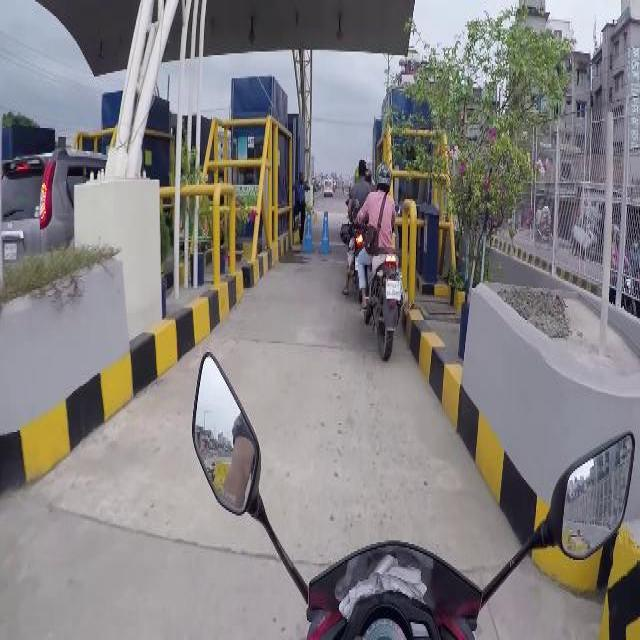bike: (196, 341, 633, 639), (361, 165, 405, 363), (611, 223, 638, 323), (347, 171, 366, 301)
vehicle: (3, 153, 76, 254), (55, 146, 100, 176), (571, 215, 598, 261), (536, 206, 553, 251), (324, 179, 334, 197)
